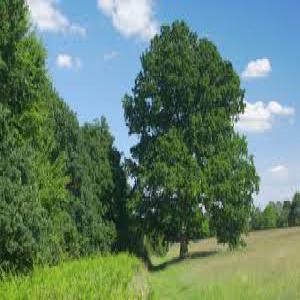Tree: (119, 16, 259, 255)
